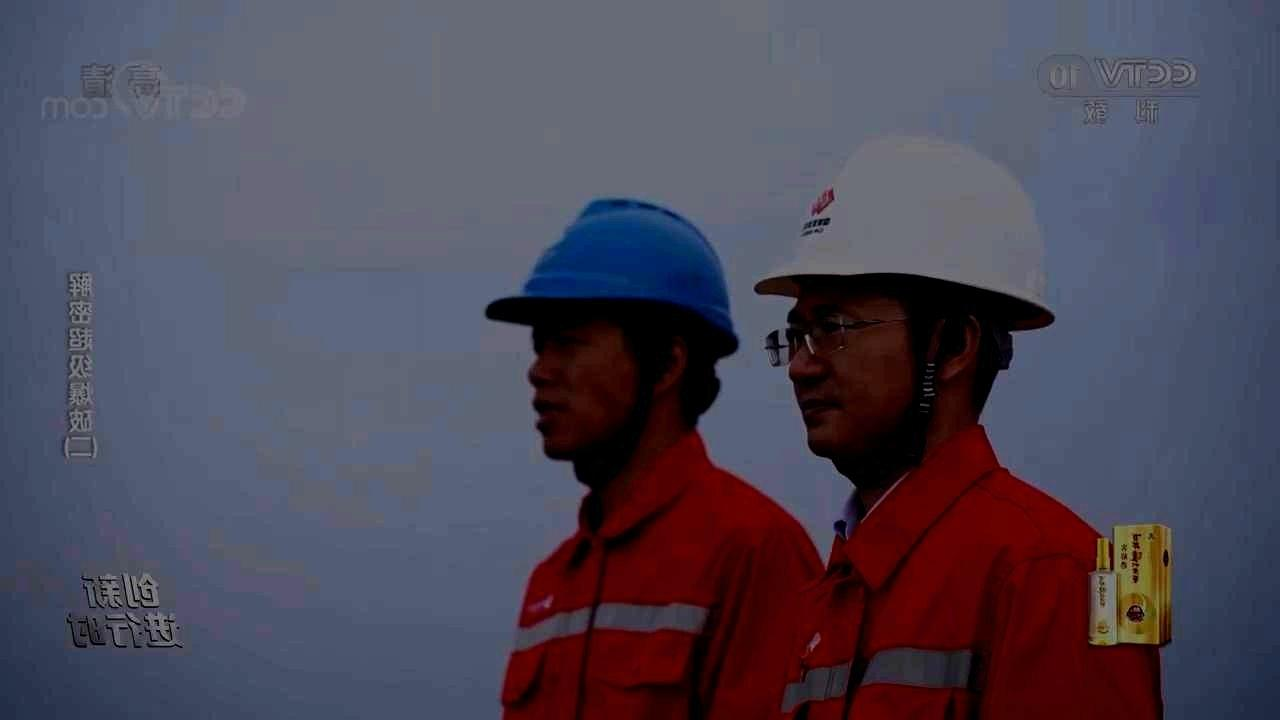helmet: (753, 132, 1056, 458), (484, 193, 742, 461)
